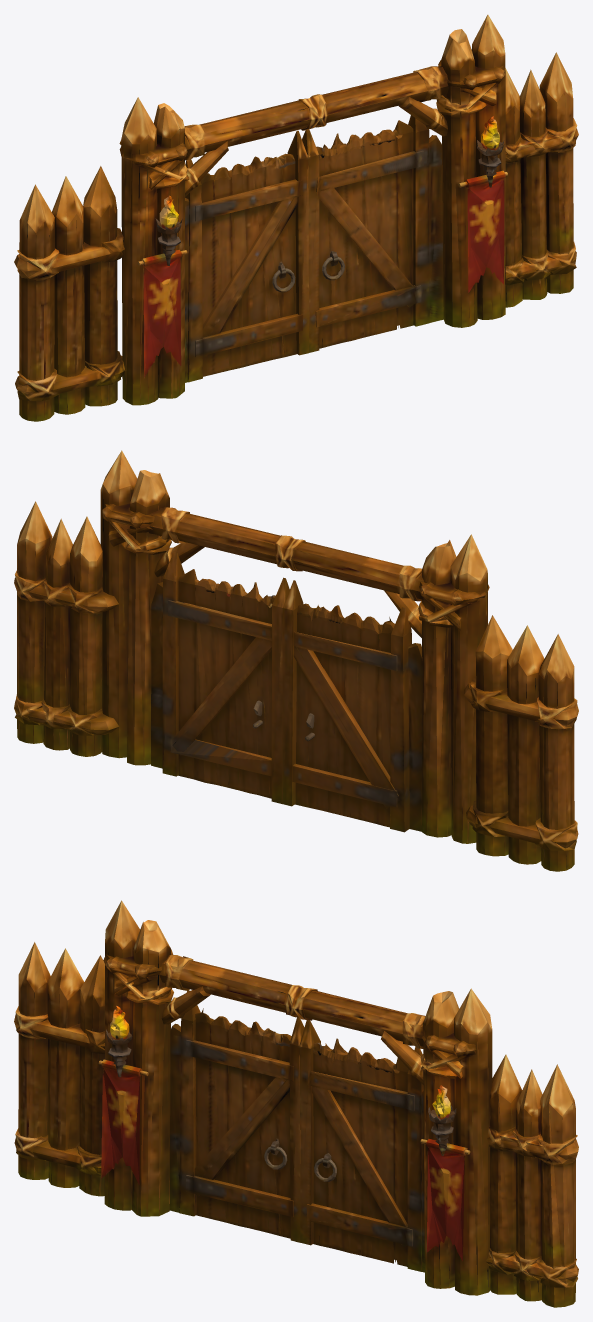
File: gates.glb
3 renders of one model, top to bottom at view 1: azimuth 30°, elevation 25°; view 2: azimuth 150°, elevation 25°; view 3: azimuth 330°, elevation 25°, orthographic.
Parts seen in each view (by area): view 1: gateframe, gateright, gateleft; view 2: gateframe, gateleft, gateright; view 3: gateframe, gateright, gateleft.
Part boxes in pixels (box(x1,y1,x2,y2)): gateframe: box(14, 14, 578, 421); gateright: box(302, 115, 429, 352); gateleft: box(185, 130, 308, 382); gateframe: box(14, 450, 578, 871); gateleft: box(282, 580, 411, 832); gateright: box(162, 551, 289, 803); gateframe: box(14, 900, 578, 1307); gateright: box(299, 1020, 423, 1271); gateleft: box(179, 990, 304, 1242).
Size of the model in its own units: 0.931 by 0.48 by 0.1272.
1 material, 1 textured.
